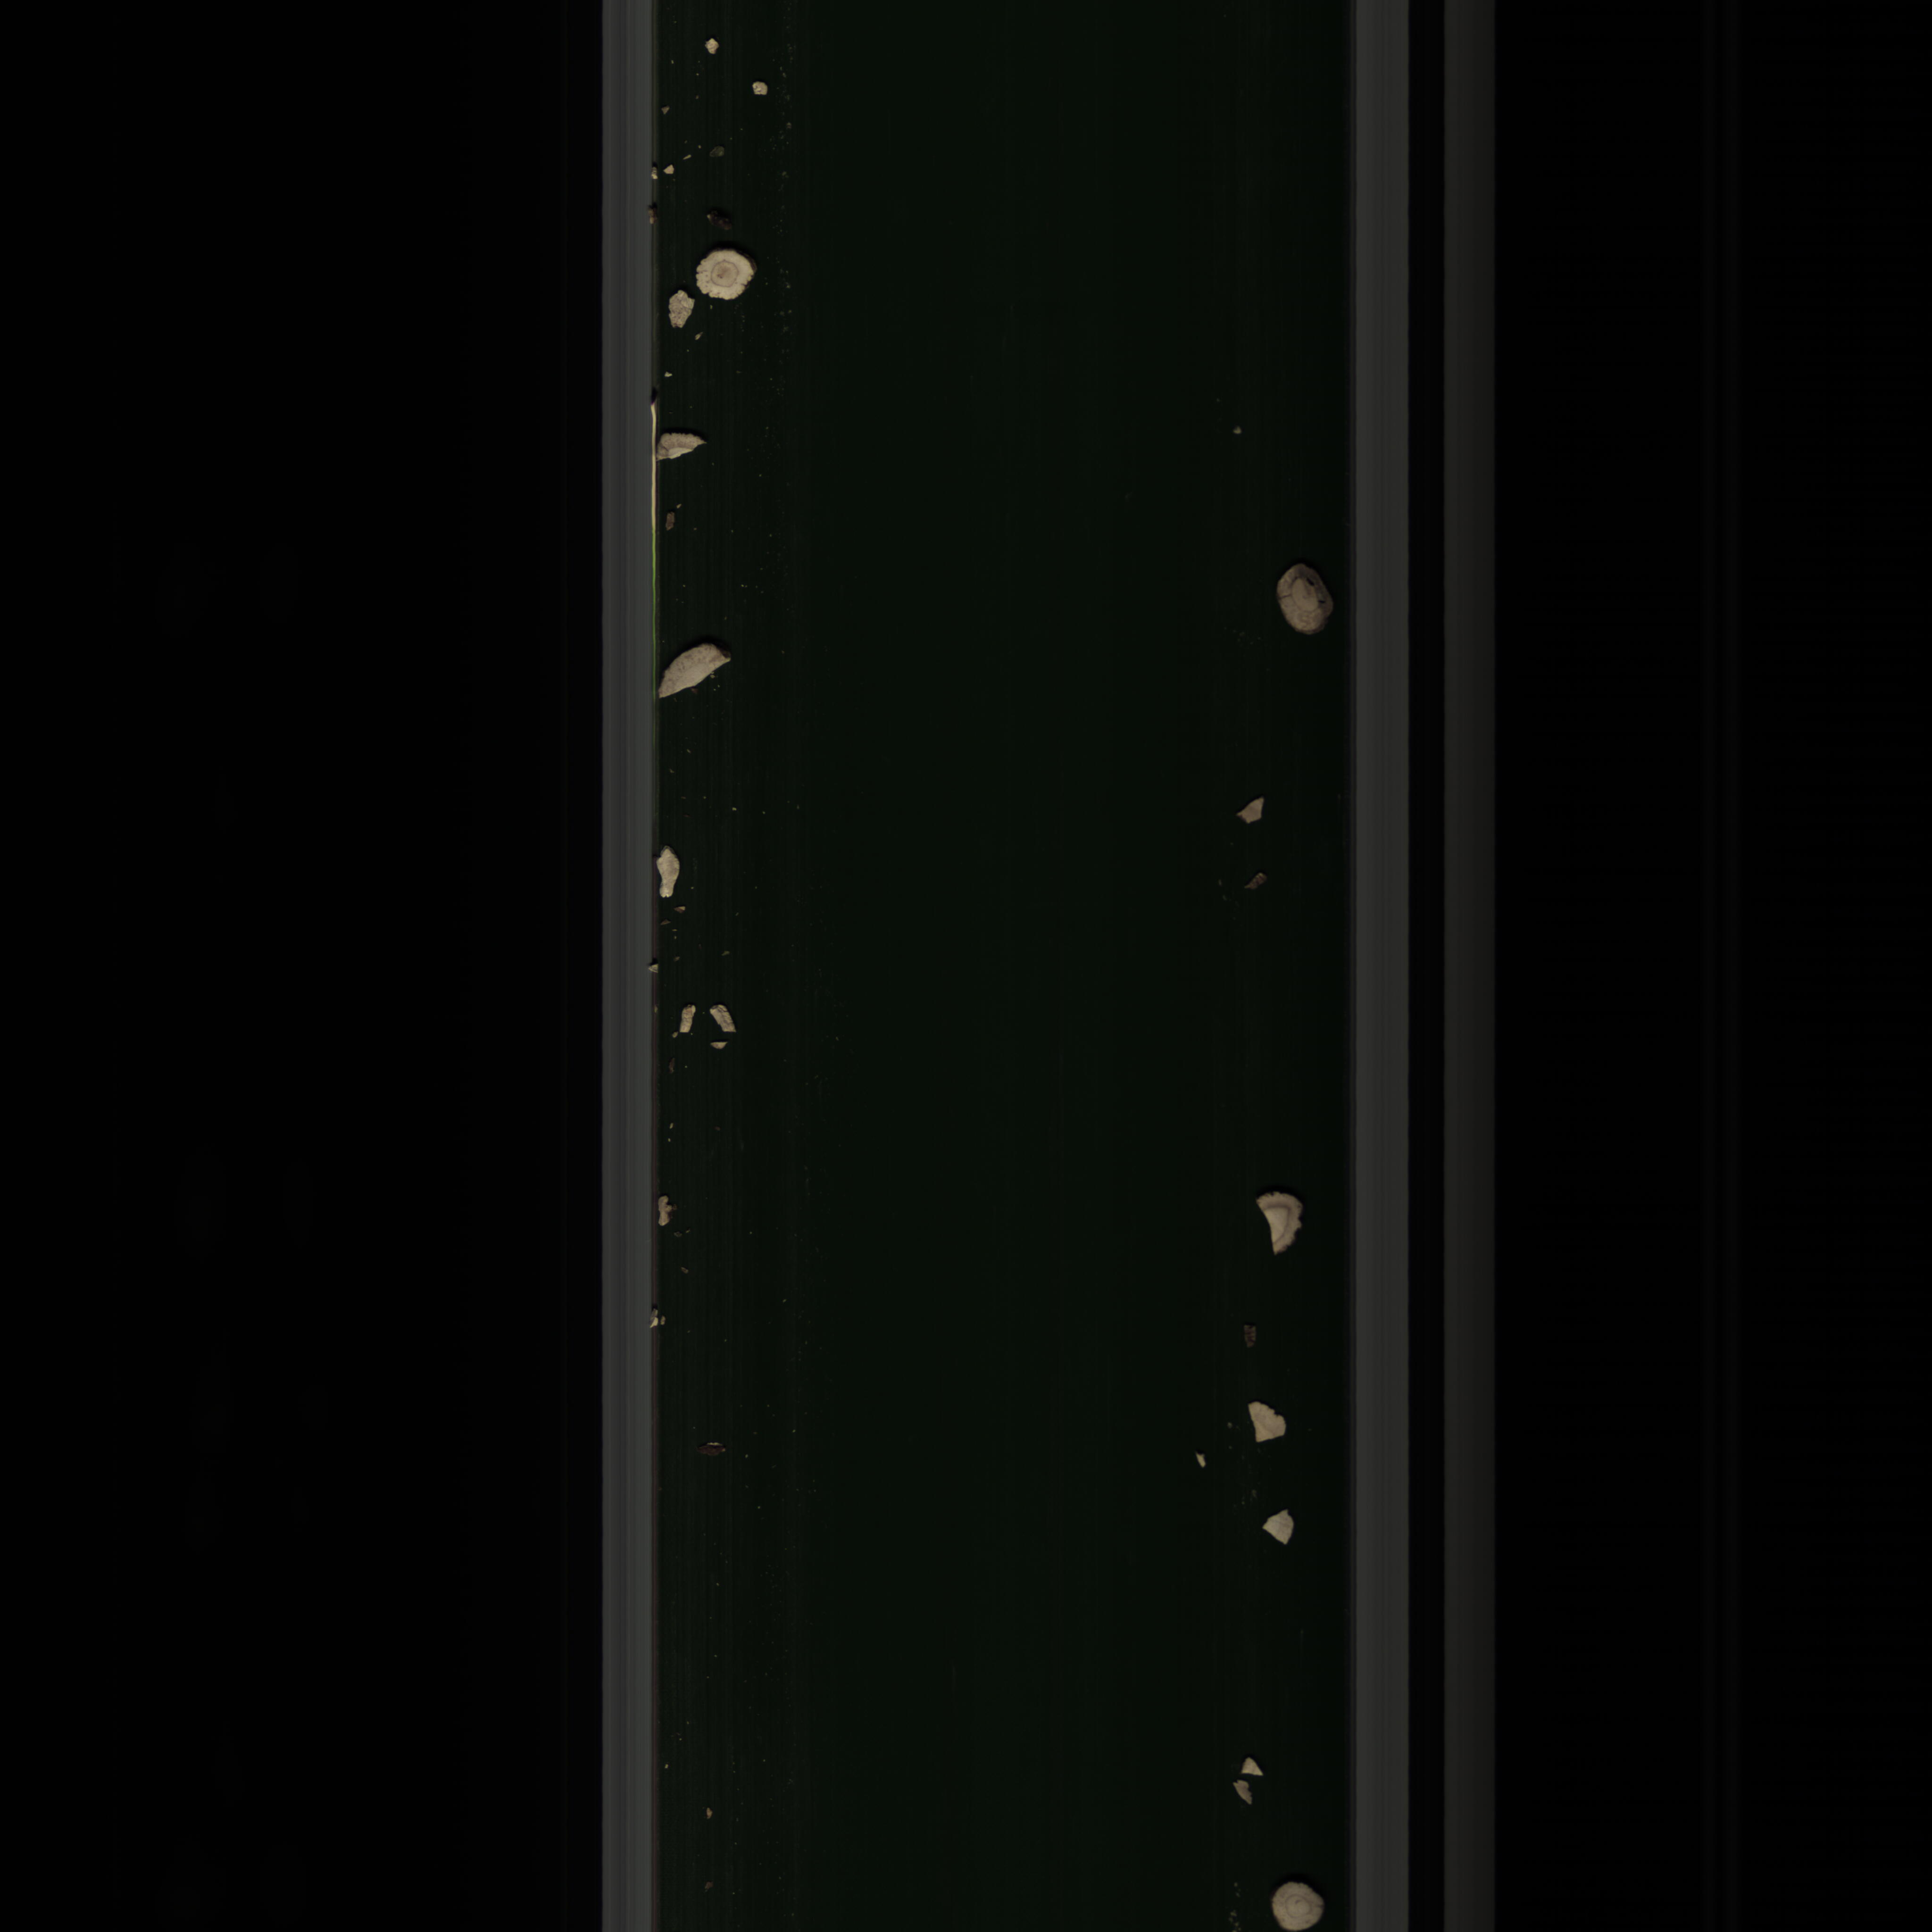debris: (658, 637, 750, 697), (1249, 1184, 1316, 1261), (1238, 1396, 1292, 1451), (1221, 1752, 1269, 1812), (1256, 1500, 1302, 1553), (658, 425, 711, 465), (655, 847, 685, 909), (702, 1000, 741, 1040), (1230, 796, 1277, 828), (672, 996, 704, 1042)
moldy: (1263, 556, 1343, 640)
